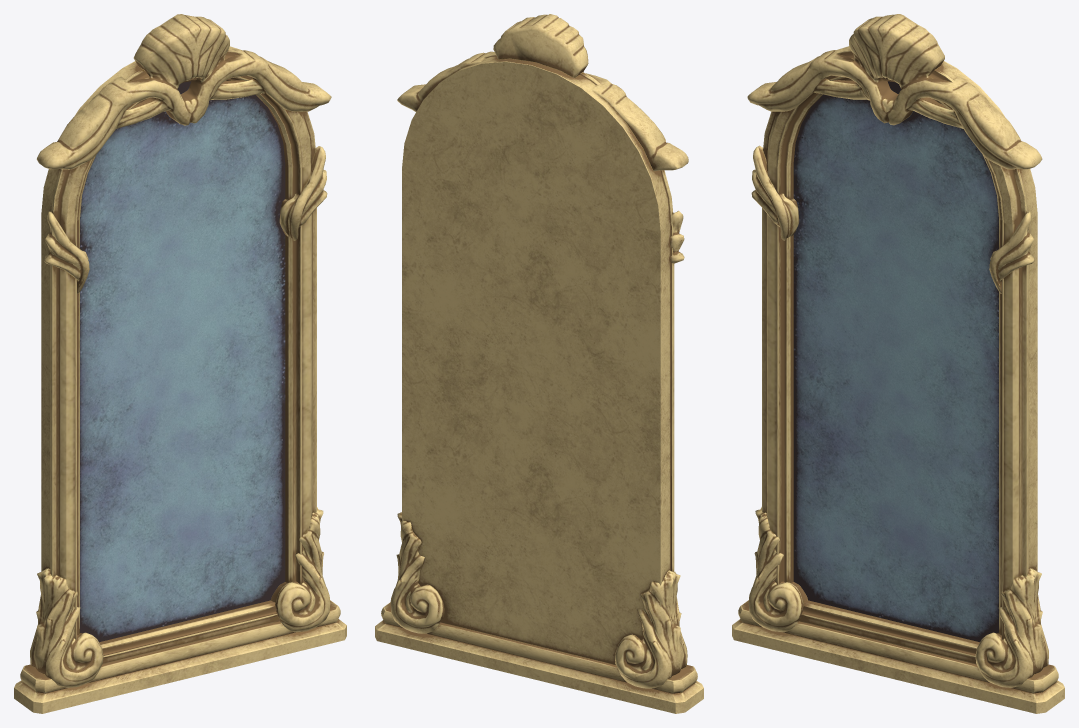
Rendered from magic_mirror.glb.
3 renders of one model, left to right at view 1: azimuth 30°, elevation 25°; view 2: azimuth 150°, elevation 25°; view 3: azimuth 330°, elevation 25°, orthographic.
Parts seen in each view (by area): view 1: Portal_frame_low (×2), Portal_top_low, Portal_base_low, Portal_swhirl_low, Portal_wings_low; view 2: Portal_frame_low, Portal_base_low, Portal_swhirl_low, Portal_top_low, Portal_wings_low; view 3: Portal_frame_low (×2), Portal_top_low, Portal_base_low, Portal_swhirl_low, Portal_wings_low.
Boxes of the visible parts, x1,y1,x2,y2 form: Portal_frame_low (×2): [41, 46, 316, 664]; Portal_top_low: [36, 14, 331, 169]; Portal_base_low: [14, 600, 346, 713]; Portal_swhirl_low: [30, 507, 330, 687]; Portal_wings_low: [44, 146, 327, 293]; Portal_frame_low: [402, 53, 674, 664]; Portal_base_low: [375, 602, 703, 713]; Portal_swhirl_low: [390, 512, 687, 688]; Portal_top_low: [397, 14, 688, 171]; Portal_wings_low: [670, 210, 684, 263]; Portal_frame_low (×2): [762, 46, 1037, 664]; Portal_top_low: [747, 14, 1042, 169]; Portal_base_low: [732, 600, 1064, 713]; Portal_swhirl_low: [748, 507, 1048, 687]; Portal_wings_low: [751, 145, 1034, 293].
Size of the model in its own units: 144 by 286 by 24.74.
2 materials, 2 textured.
